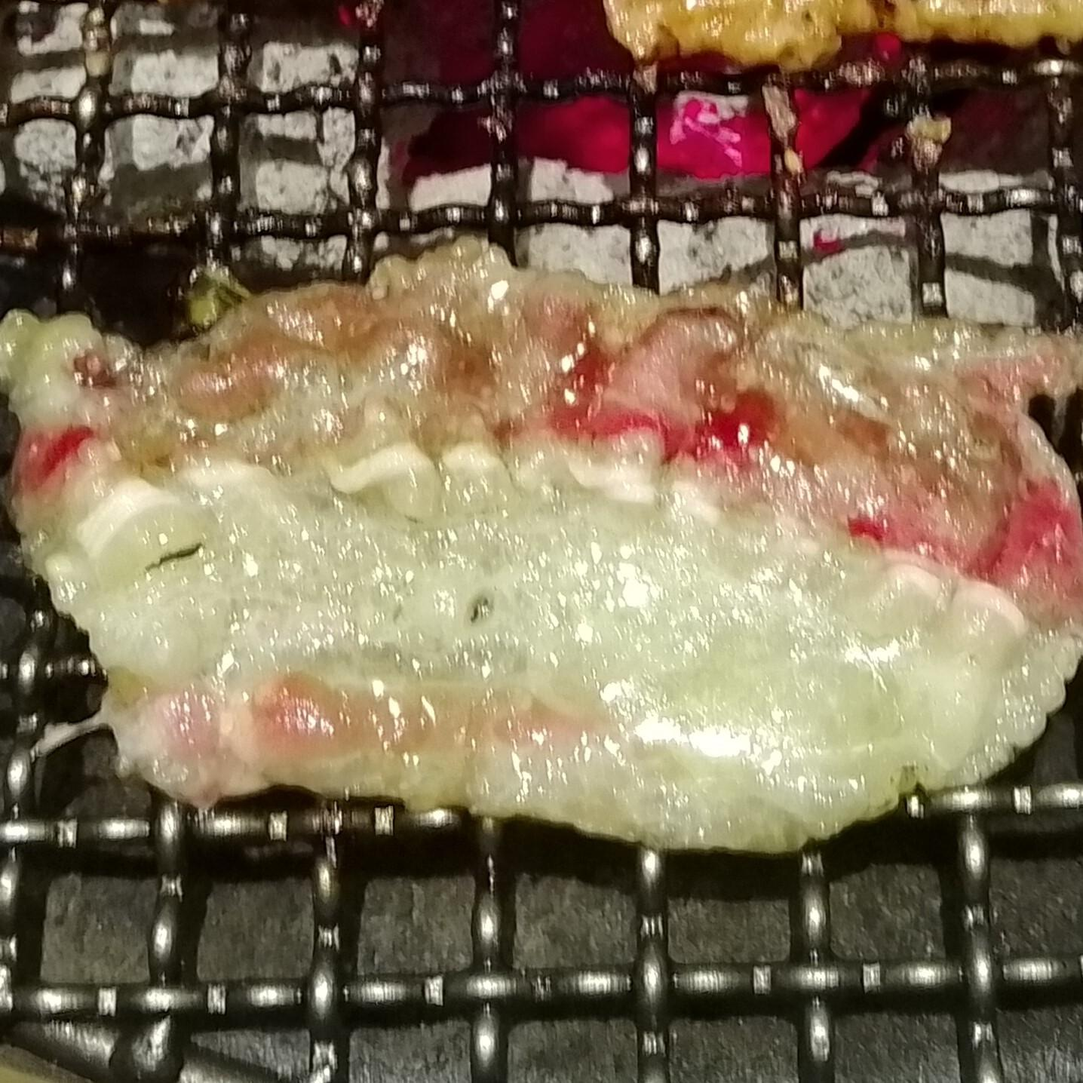Undercooked: (0, 250, 1082, 857)
